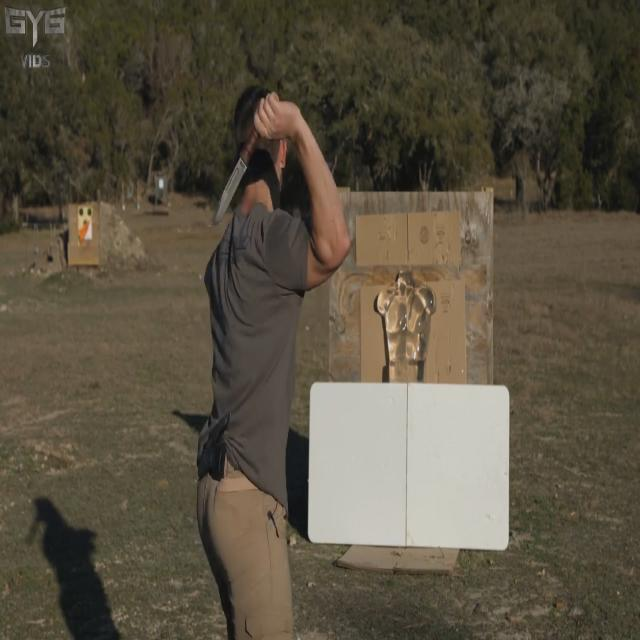knife: (209, 130, 258, 241)
